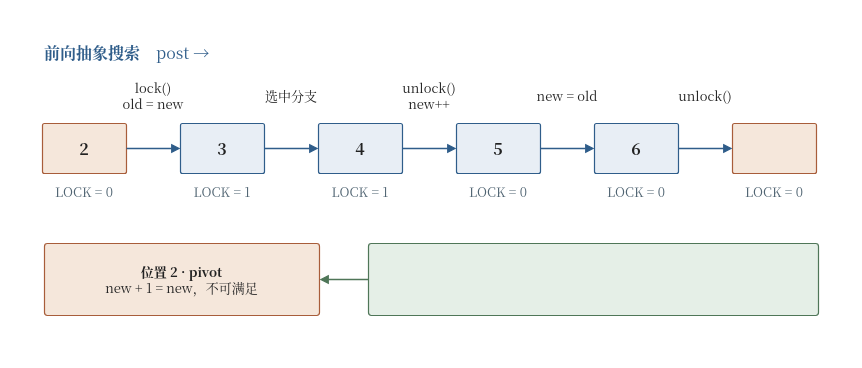
This 862x368 diagram has some shape labels left out. The box of each missing label's shape, as (x1, y1, x2, y2) in pixels:
ERROR: (731, 122, 817, 174)
反向精确回推 从 ERROR 求 bad region: (367, 242, 819, 316)
